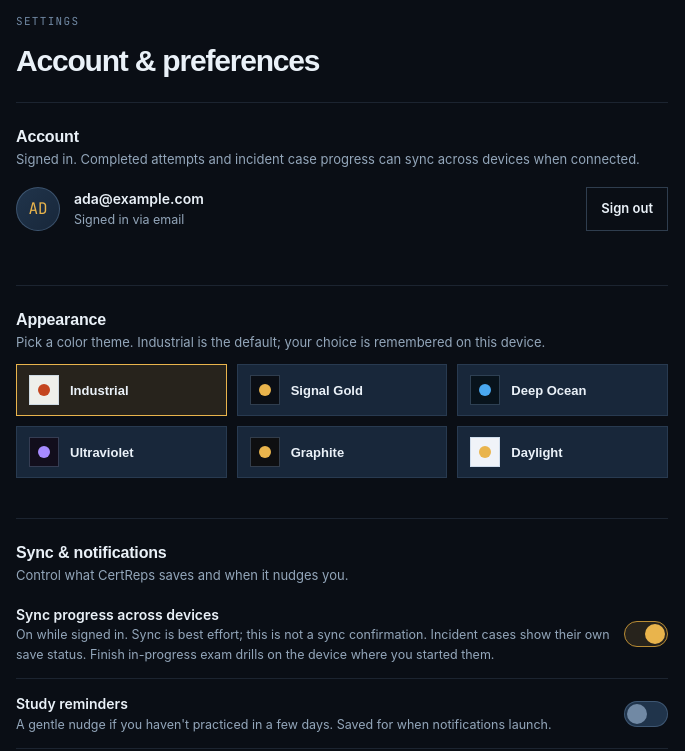
settings auth feedback › reports a returned sign-out failure without claiming success
Expected: the text "ada@example.com" is shown, [74,190,204,207]
Step 1. Click the button "Sign out" → point(627, 209), box [586,187,668,231]
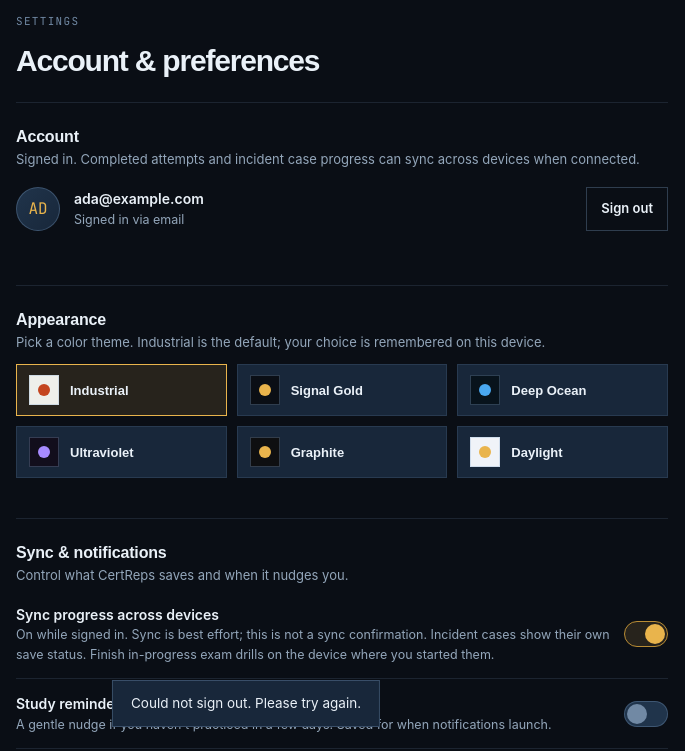
Now the text "Could not sign out. Please try again." is shown, box [112,680,380,727]
